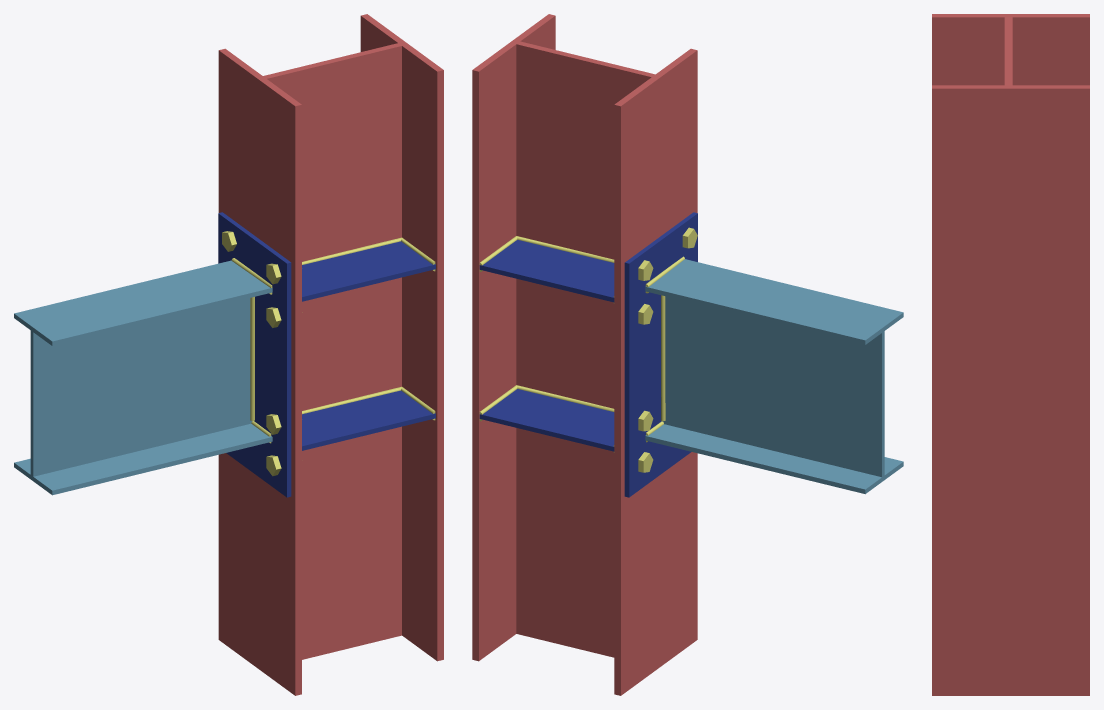
File: steel junct.glb
The picture shows the model from 3 angles, left to right: view 1: azimuth 30°, elevation 25°; view 2: azimuth 150°, elevation 25°; view 3: azimuth 270°, elevation 25°; orthographic projection. The views are drawn at different scales.
Visible parts, largest first — view 1: Box008, Box004, Box006, Object002, Object001; view 2: Box008, Box004, Box006, Object002, Object001; view 3: Box008.
Part boxes in pixels (x1,y1,x2,y2): Box008: (218, 14, 443, 695); Box004: (14, 260, 272, 495); Box006: (218, 212, 291, 497); Object002: (302, 390, 435, 450); Object001: (302, 241, 435, 301); Box008: (472, 14, 697, 695); Box004: (645, 259, 903, 494); Box006: (624, 212, 697, 497); Object002: (479, 389, 614, 451); Object001: (479, 240, 614, 302); Box008: (932, 14, 1089, 695).
Bounding box in the file's own units: 2.14 × 3.24 × 0.762.
